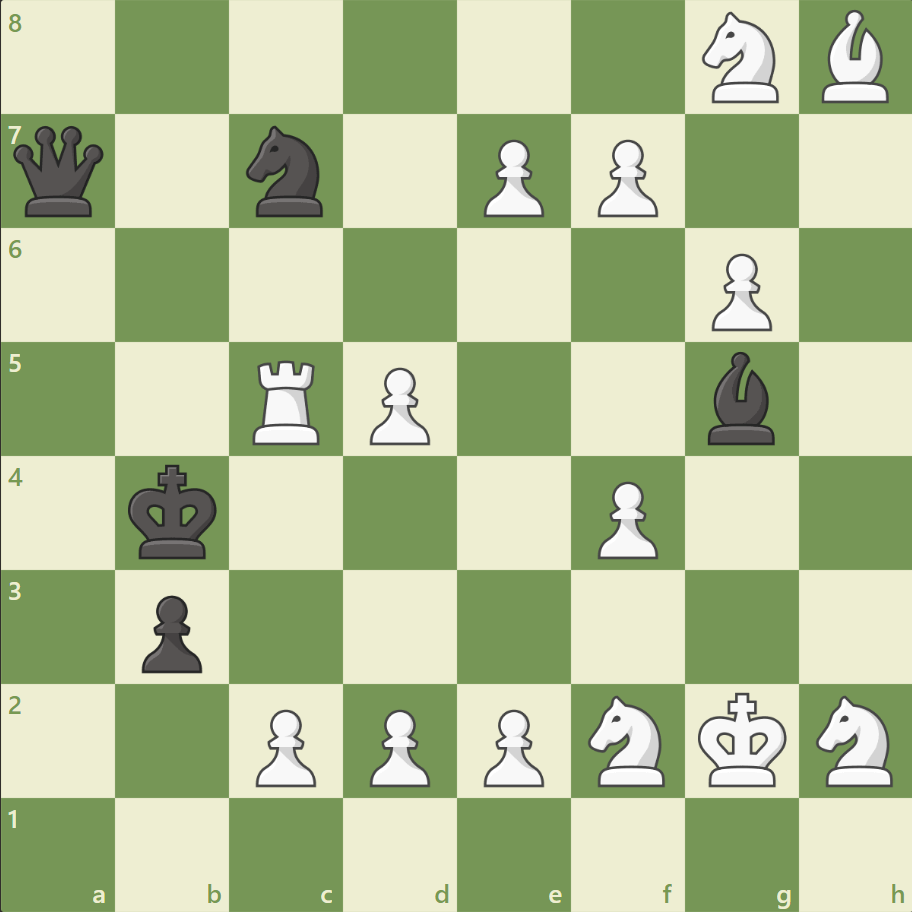B: (812, 6, 896, 109)
K: (692, 685, 792, 793)
N: (692, 7, 789, 110), (579, 688, 676, 791), (806, 688, 903, 791)
P: (474, 132, 549, 223), (701, 246, 776, 337), (247, 700, 322, 791), (474, 700, 549, 791), (588, 132, 662, 223), (361, 359, 435, 450), (588, 473, 662, 564), (361, 700, 435, 791)
R: (246, 352, 329, 449)
b: (698, 347, 782, 449)
k: (124, 458, 224, 566)
n: (238, 121, 335, 223)
p: (133, 586, 208, 677)
q: (10, 122, 109, 222)
